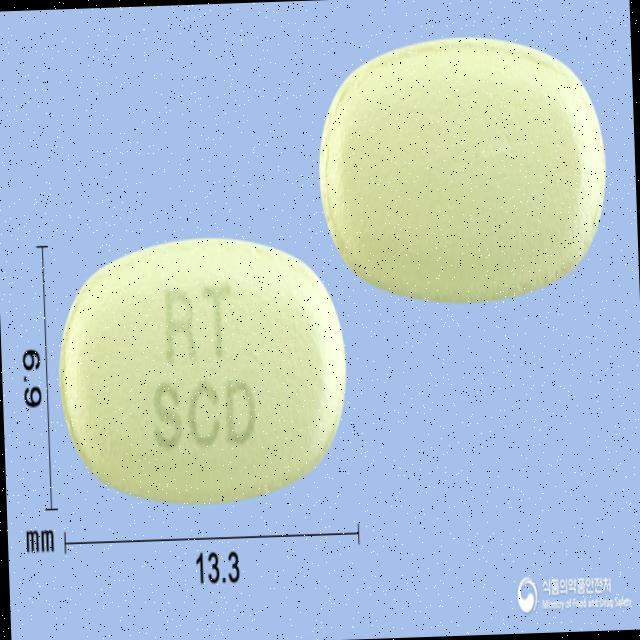Retos Tab: (314, 30, 614, 309), (53, 230, 350, 502)
